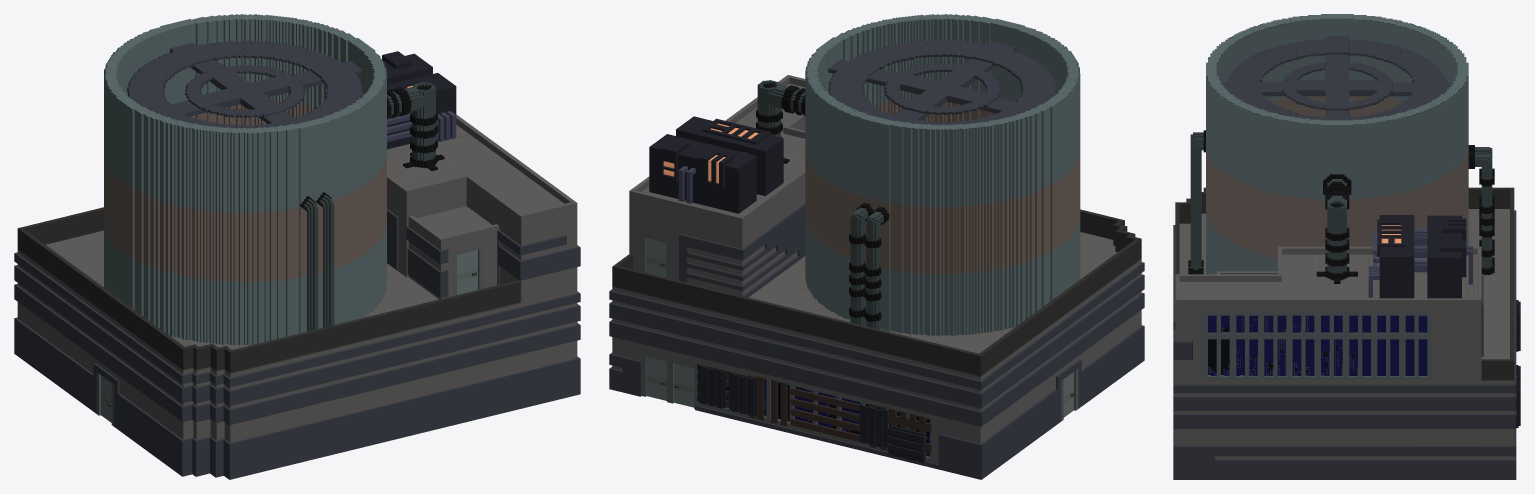
Rendered from Big_fabrika.dae.
The picture shows the model from 3 angles, left to right: view 1: azimuth 30°, elevation 25°; view 2: azimuth 150°, elevation 25°; view 3: azimuth 270°, elevation 25°; orthographic projection. The views are drawn at different scales.
Visible parts, largest first — view 1: Content; view 2: Content; view 3: Content.
Boxes of the visible parts, x1,y1,x2,y2 form: Content: [14, 14, 580, 479]; Content: [609, 14, 1144, 479]; Content: [1173, 14, 1520, 479].
Size of the model in its own units: 191 by 151 by 160.
1 material, 1 textured.
